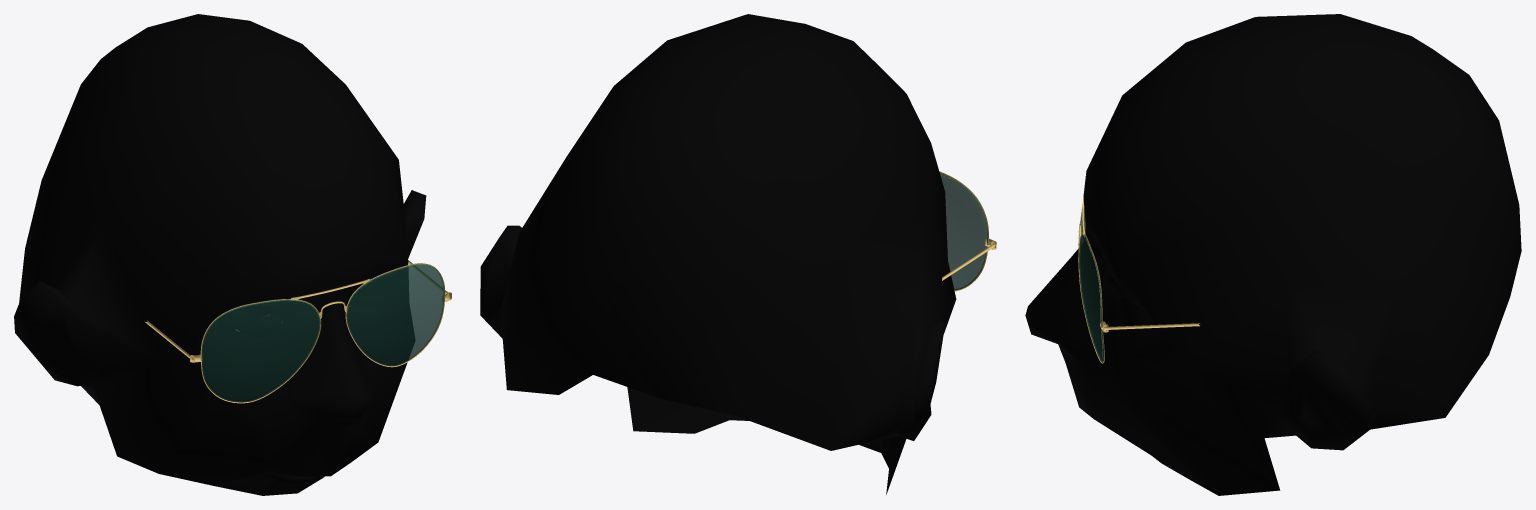
Rendered from glasses.glb.
3 views of the same model, side by side, from view 1: azimuth 30°, elevation 25°; view 2: azimuth 150°, elevation 25°; view 3: azimuth 270°, elevation 25° (orthographic). The views are drawn at different scales.
Parts seen in each view (by area): view 1: occluder, lens, frame; view 2: occluder, lens, frame; view 3: occluder, lens, frame.
Part boxes in pixels (bbox=[...]): occluder: bbox=[14, 14, 426, 495]; lens: bbox=[201, 264, 444, 402]; frame: bbox=[144, 260, 451, 403]; occluder: bbox=[480, 14, 956, 494]; lens: bbox=[939, 172, 988, 290]; frame: bbox=[939, 171, 996, 291]; occluder: bbox=[1025, 14, 1521, 495]; lens: bbox=[1079, 208, 1103, 362]; frame: bbox=[1078, 198, 1199, 363].
Bounding box in the file's own units: 3.1 × 2.99 × 3.16.
Materials: 4 (1 with a texture image).
